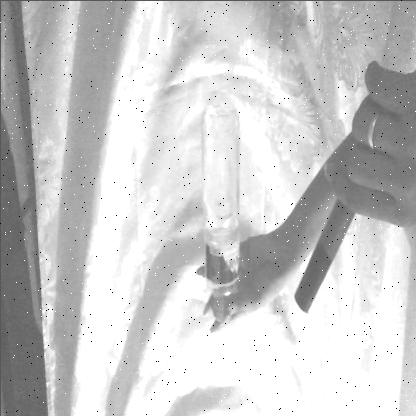Plastic Bottle: (179, 52, 246, 334)
